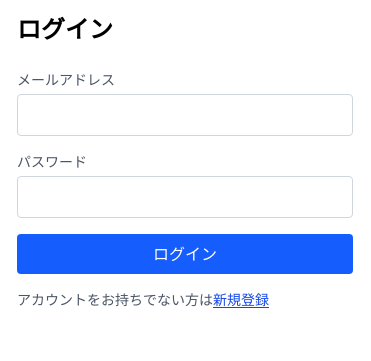
Scenario: LoginPage › 失敗したときは遷移しない
Type "user@example.com" into the field labelled "メールアドレス" at x=185, y=115, box x1=17 y1=94 x2=353 y2=136
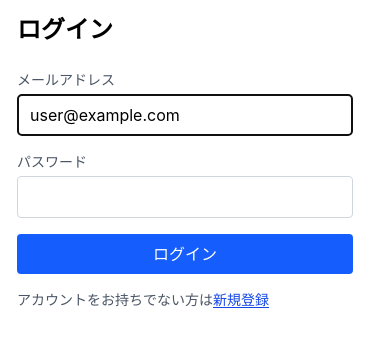
Type "password123" into the password field labelled "パスワード" at x=185, y=197, box x1=17 y1=176 x2=353 y2=218
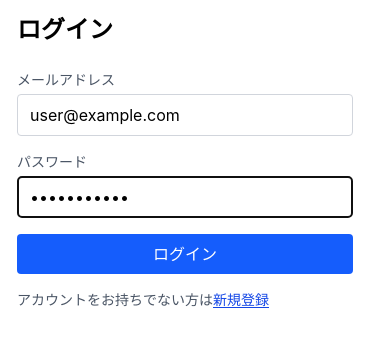
Click the button "ログイン" at x=185, y=254, box x1=17 y1=234 x2=353 y2=274
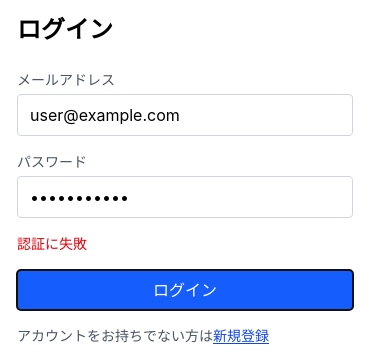
Now the text "認証に失敗" is shown, box x1=17 y1=235 x2=87 y2=252
